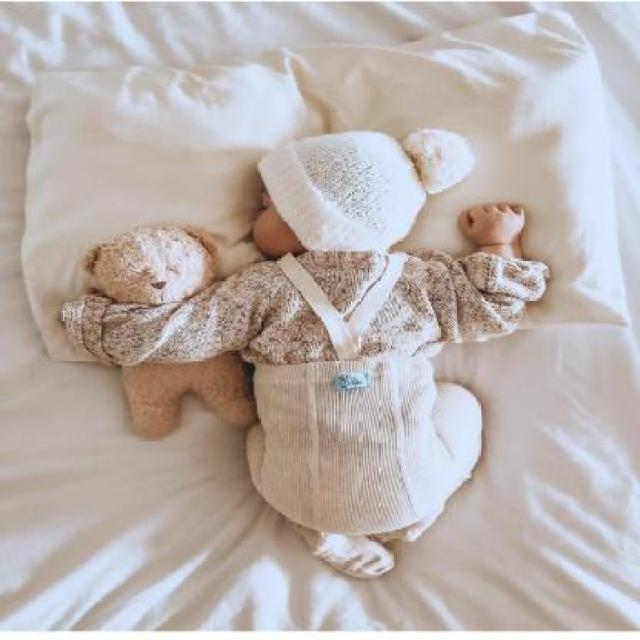baby: (60, 127, 549, 576)
